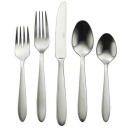fork: (34, 8, 51, 124)
